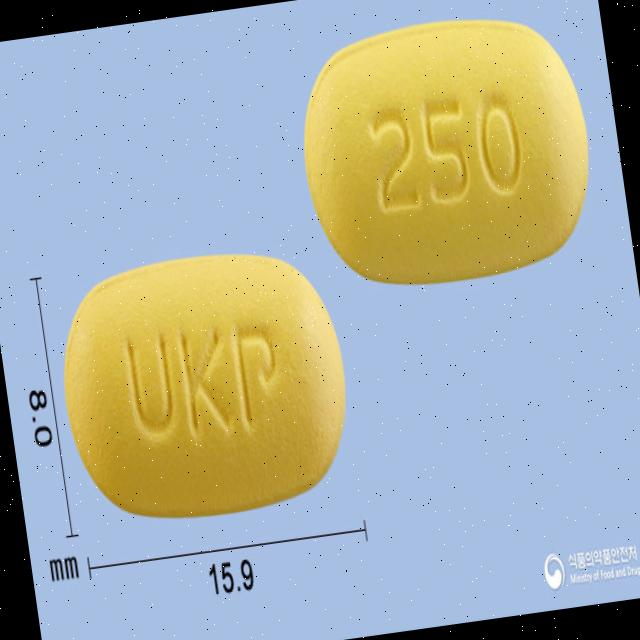Clazin - 500mg: (47, 232, 362, 534), (286, 4, 606, 300)
